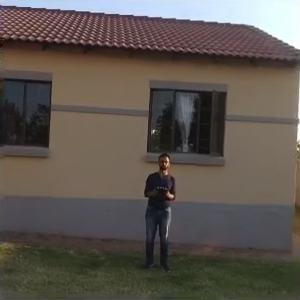follow: (137, 147, 178, 278)
